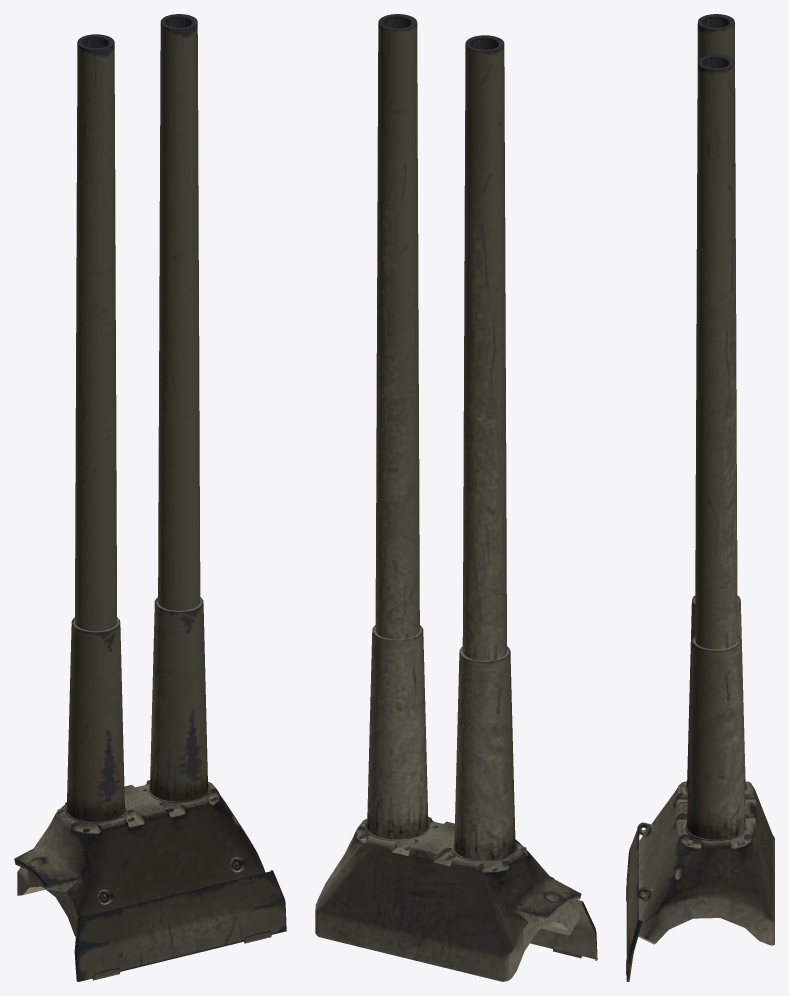
The model's file is Gun_02.glb.
3 renders of one model, left to right at view 1: azimuth 30°, elevation 25°; view 2: azimuth 150°, elevation 25°; view 3: azimuth 270°, elevation 25°, orthographic. The views are drawn at different scales.
Parts seen in each view (by area): view 1: set_0_group_0; view 2: set_0_group_0; view 3: set_0_group_0.
Part boxes in pixels (x1,y1,x2,y2): set_0_group_0: [14, 14, 286, 981]; set_0_group_0: [315, 14, 597, 981]; set_0_group_0: [626, 14, 774, 981].
Bounding box in the file's own units: 1.15 × 4.52 × 0.6836.
Materials: 1 (1 with a texture image).
